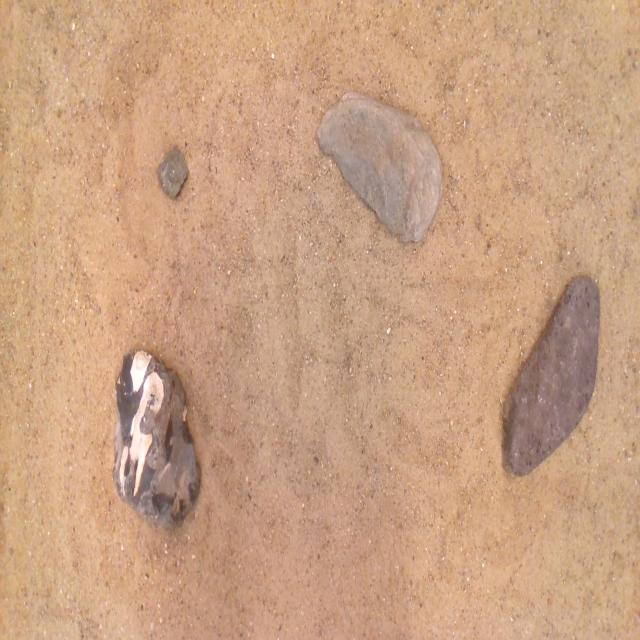rock: (504, 277, 600, 475), (317, 92, 441, 242), (113, 350, 200, 524), (157, 146, 188, 198)
